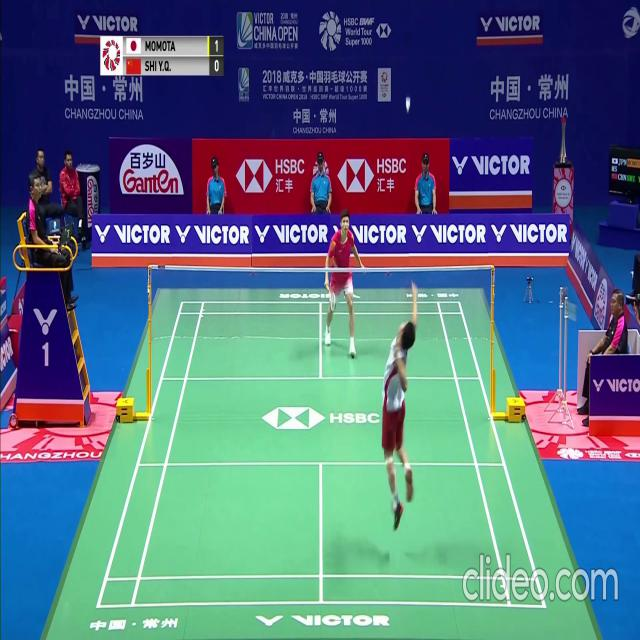Shuttlecock: (406, 101, 410, 108)
